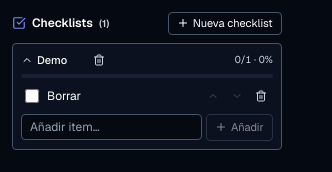
Scenario: TaskChecklistSection › elimina item con confirm aceptado
Expected: the text "Borrar" is shown, [47,88,81,104]
What coordinates should you click on to do the following:
click the button with test id "task-checklist-delete-cli-1"
I would click on:
 (261, 96)
Its box is [253,88,269,104].
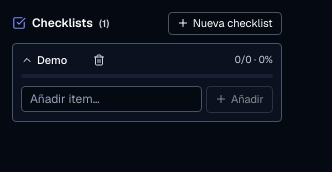
Expected: the text "Borrar" is gone
